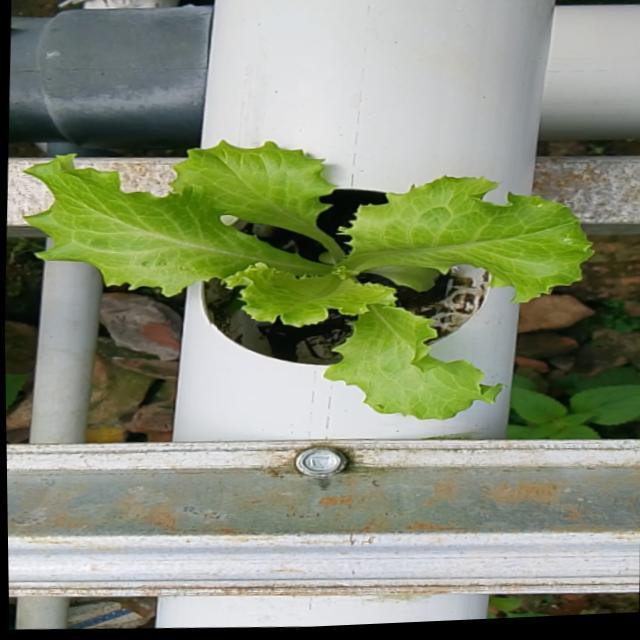Baby: (29, 138, 599, 415)
